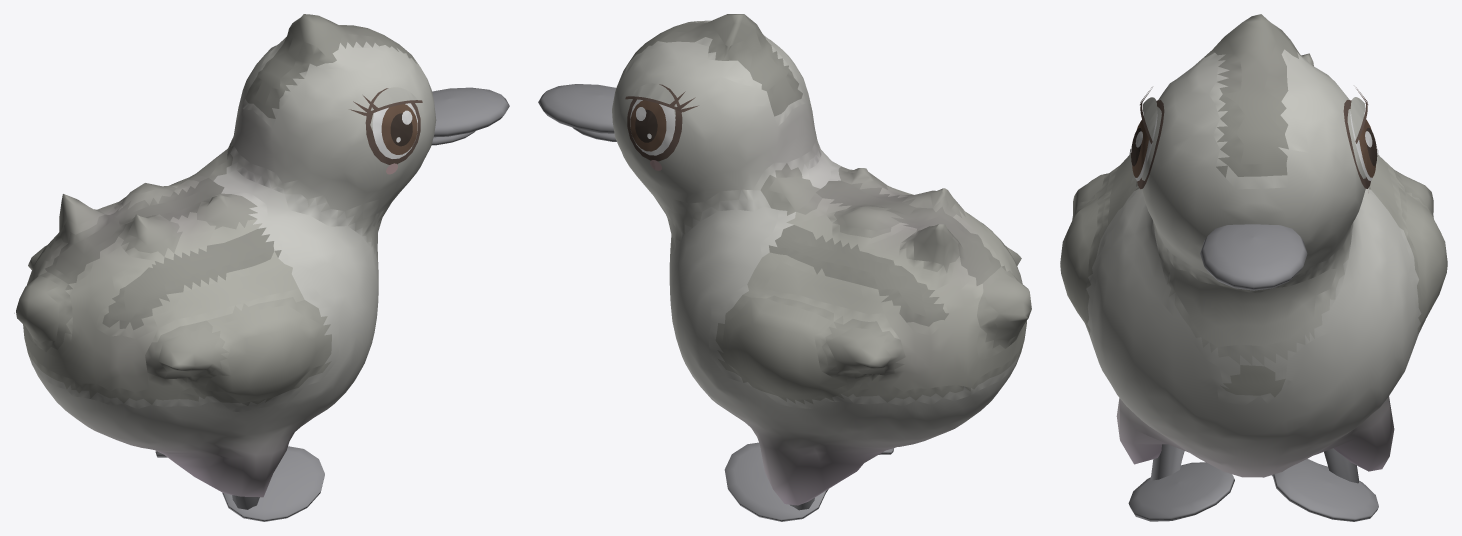
The model's file is ugly_duckling.glb.
The picture shows the model from 3 angles, left to right: view 1: azimuth 30°, elevation 25°; view 2: azimuth 150°, elevation 25°; view 3: azimuth 270°, elevation 25°; orthographic projection. The views are drawn at different scales.
Parts seen in each view (by area): view 1: ugly_duckling; view 2: ugly_duckling; view 3: ugly_duckling.
Boxes of the visible parts, x1,y1,x2,y2 form: ugly_duckling: (14, 14, 509, 521); ugly_duckling: (538, 14, 1031, 521); ugly_duckling: (1060, 14, 1447, 521).
Size of the model in its own units: 0.3807 by 0.3348 by 0.2188.
